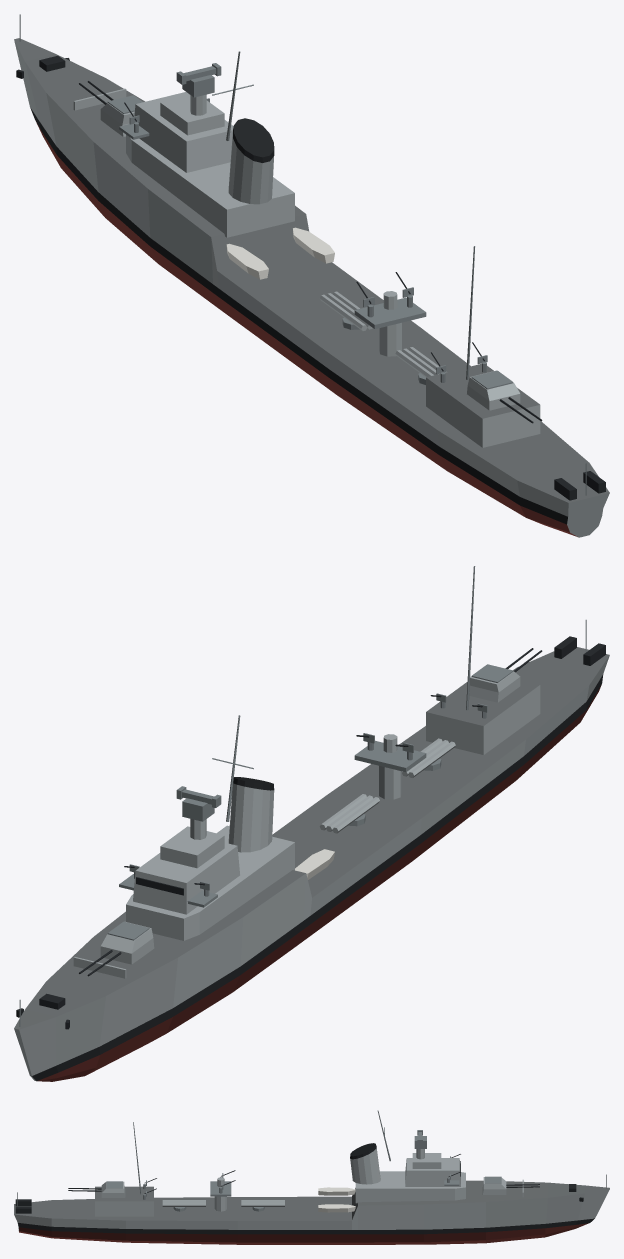
File: folgore.glb
The picture shows the model from 3 angles, top to bottom: view 1: azimuth 30°, elevation 25°; view 2: azimuth 150°, elevation 25°; view 3: azimuth 270°, elevation 25°; orthographic projection. The views are drawn at different scales.
Parts seen in each view (by area): view 1: Hull, Bridge deckhouse, Aft deckhouse, Bridge, Funnel, Compass platform, Funnel cap, 40 mm platform, 120 X house, Boat, Boat.001; view 2: Hull, Bridge deckhouse, Aft deckhouse, Bridge, Funnel, Compass platform, 120 A house, 40 mm platform, 120 X house, Searchlight tower; view 3: Hull, Bridge deckhouse, Aft deckhouse, Bridge, Funnel, Compass platform, 120 A house, Boat, Boat.001, 40 mm platform, 120 X house, Funnel cap.
Boxes of the visible parts, x1,y1,x2,y2 form: Hull: [14, 38, 609, 537]; Bridge deckhouse: [126, 134, 294, 237]; Aft deckhouse: [426, 363, 540, 447]; Bridge: [134, 92, 233, 172]; Funnel: [228, 132, 273, 204]; Compass platform: [160, 95, 224, 135]; Funnel cap: [233, 118, 274, 162]; 40 mm platform: [354, 297, 426, 328]; 120 X house: [467, 370, 520, 410]; Boat: [226, 243, 268, 279]; Boat.001: [292, 227, 334, 263]; Hull: [14, 647, 609, 1081]; Bridge deckhouse: [126, 825, 294, 940]; Aft deckhouse: [426, 680, 540, 754]; Bridge: [133, 843, 239, 914]; Funnel: [228, 783, 274, 852]; Compass platform: [160, 826, 224, 868]; 120 A house: [100, 921, 154, 964]; 40 mm platform: [354, 740, 426, 772]; 120 X house: [469, 671, 520, 702]; Searchlight tower: [379, 766, 401, 799]; Hull: [14, 1180, 609, 1244]; Bridge deckhouse: [355, 1171, 465, 1203]; Aft deckhouse: [95, 1186, 153, 1216]; Bridge: [405, 1158, 460, 1186]; Funnel: [350, 1148, 380, 1184]; Compass platform: [412, 1153, 441, 1168]; 120 A house: [482, 1177, 506, 1194]; Boat: [318, 1187, 355, 1195]; Boat.001: [318, 1204, 355, 1212]; 40 mm platform: [210, 1181, 231, 1196]; 120 X house: [101, 1181, 125, 1197]; Funnel cap: [350, 1143, 376, 1159].
Bounding box in the file's own units: 9.2 × 23.32 × 96.05.
